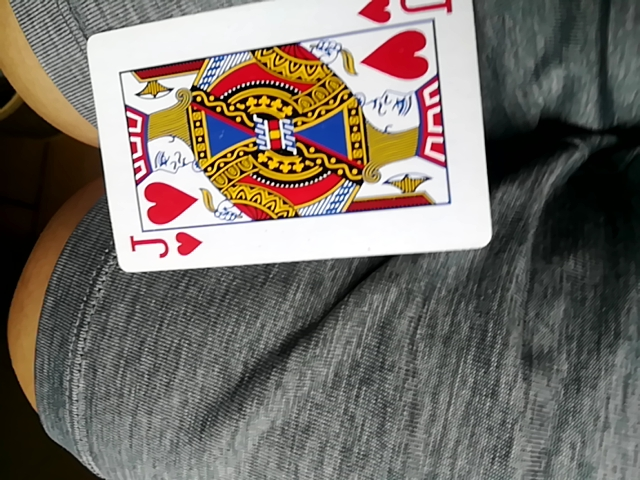hx j: (96, 0, 494, 274)
